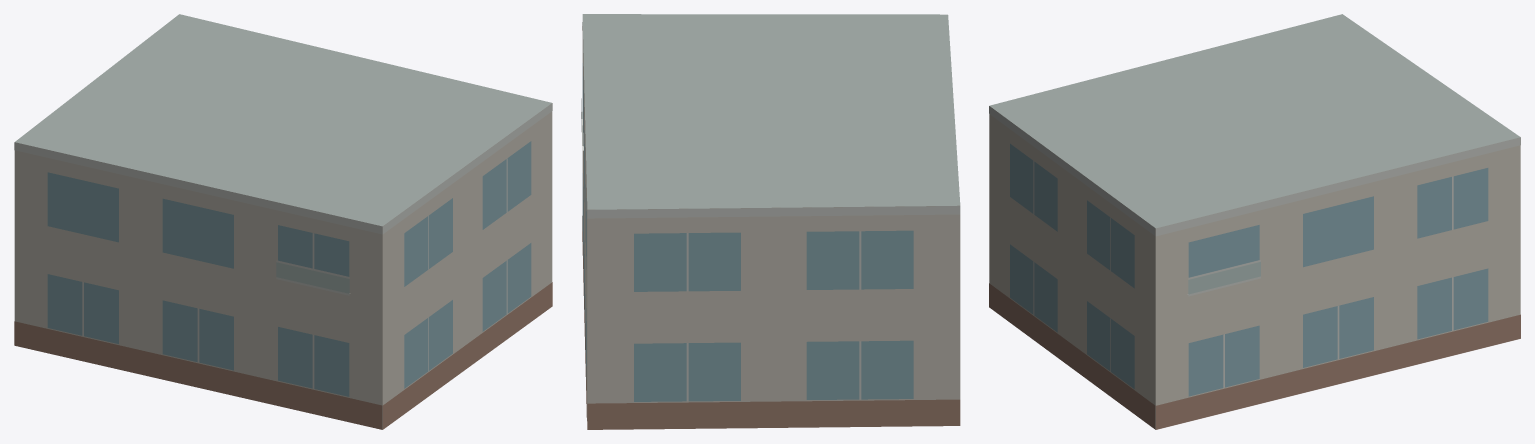
The model's file is survey-upis-32674343.glb.
The picture shows the model from 3 angles, left to right: view 1: azimuth 30°, elevation 25°; view 2: azimuth 150°, elevation 25°; view 3: azimuth 270°, elevation 25°; orthographic projection. The views are drawn at different scales.
Parts seen in each view (by area): view 1: survey-upis-32674343.tmp; view 2: survey-upis-32674343.tmp; view 3: survey-upis-32674343.tmp.
Boxes of the visible parts, x1,y1,x2,y2 form: survey-upis-32674343.tmp: (14, 14, 552, 429); survey-upis-32674343.tmp: (581, 14, 960, 429); survey-upis-32674343.tmp: (989, 14, 1520, 429).
Size of the model in its own units: 13.93 by 6.1 by 14.6.
